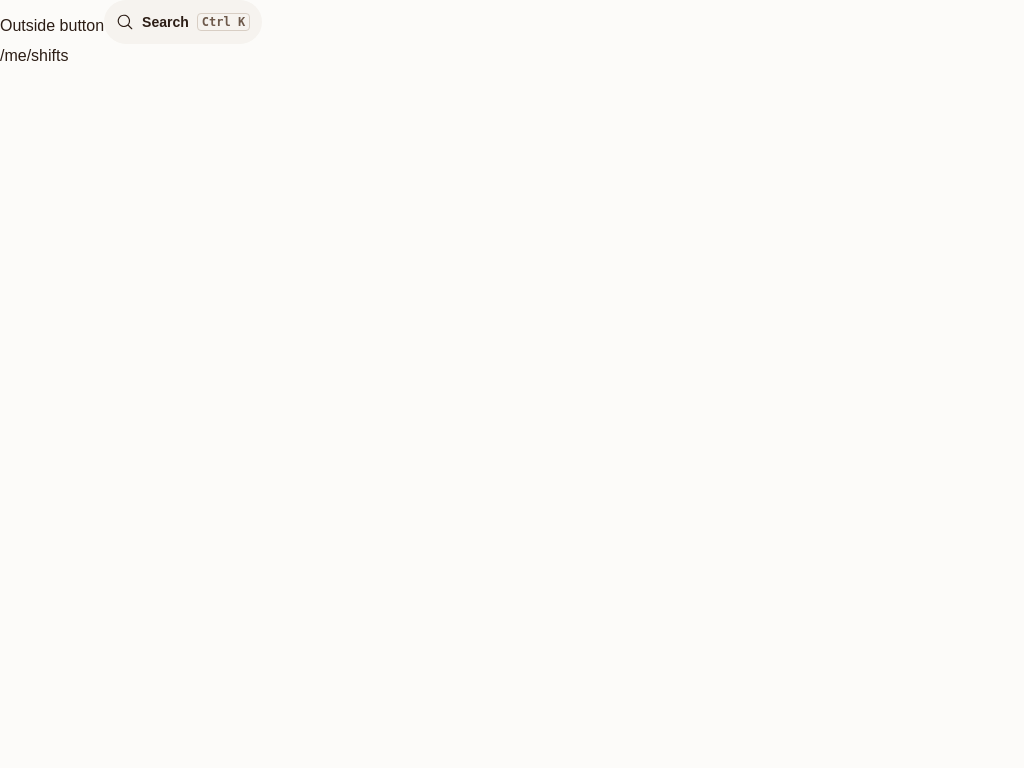
Test: CommandPaletteLauncher › says so when nothing matches
Press k
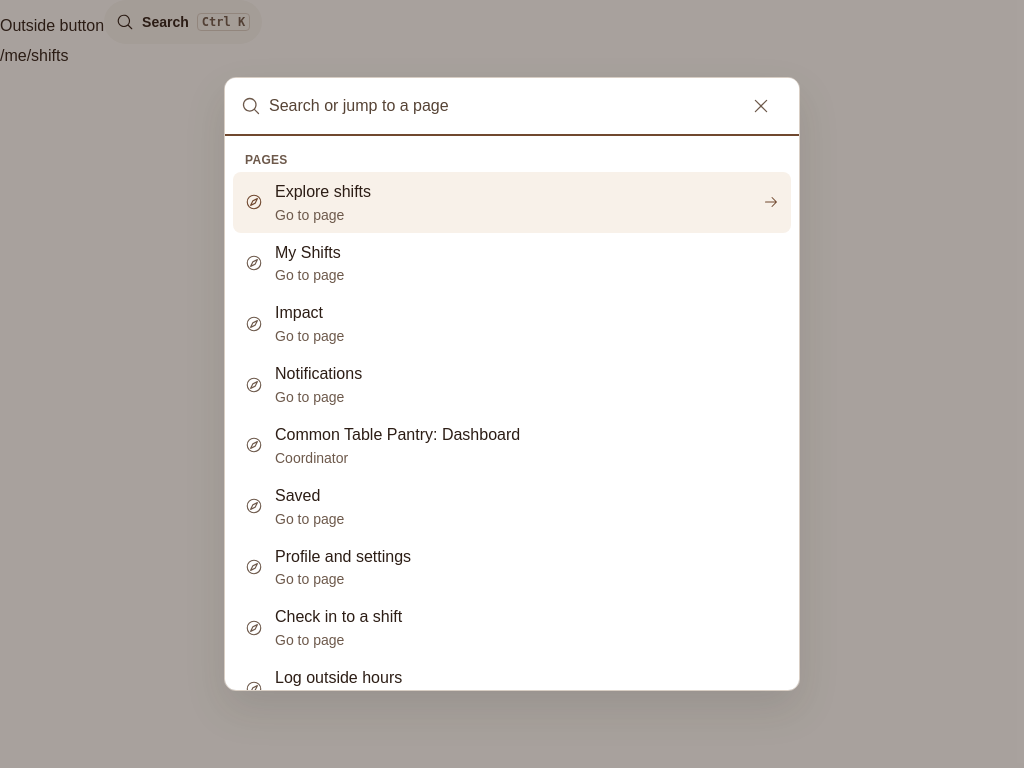
Type "zzzz qqqq" into the dropdown named "Search pages, shifts, organizations, and help". click: (500, 106)
box: x1=269 y1=78 x2=731 y2=134
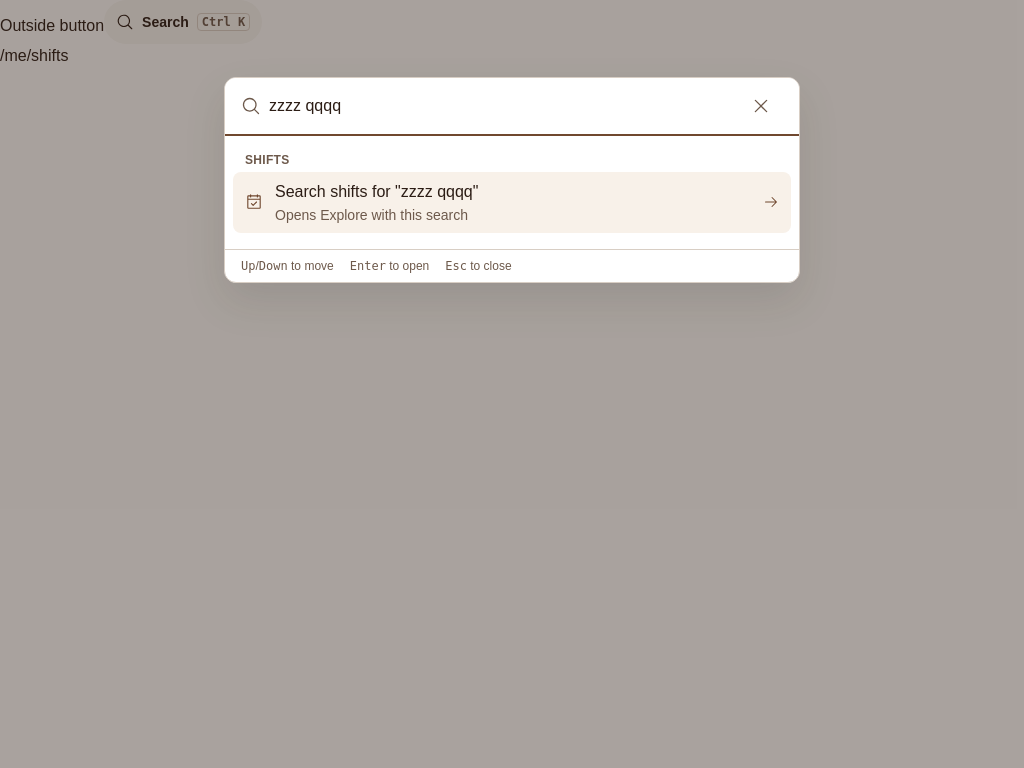
Result: the number of options is 1 at x1=233 y1=172 x2=791 y2=233
